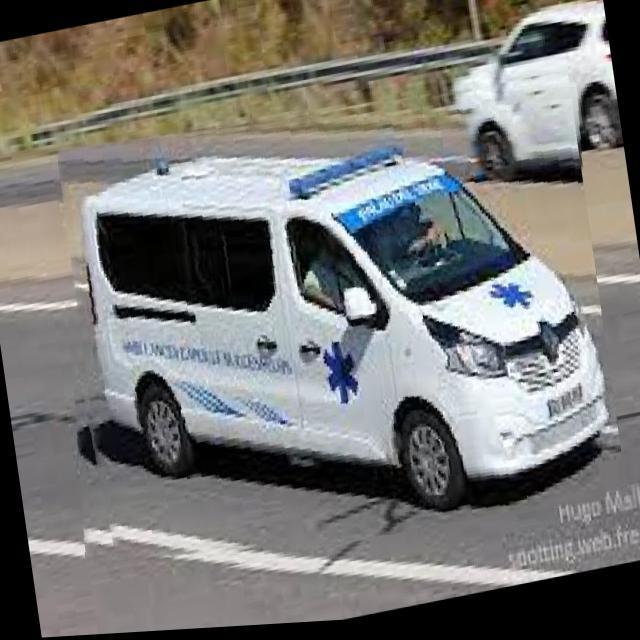ambulance: (36, 60, 626, 597)
